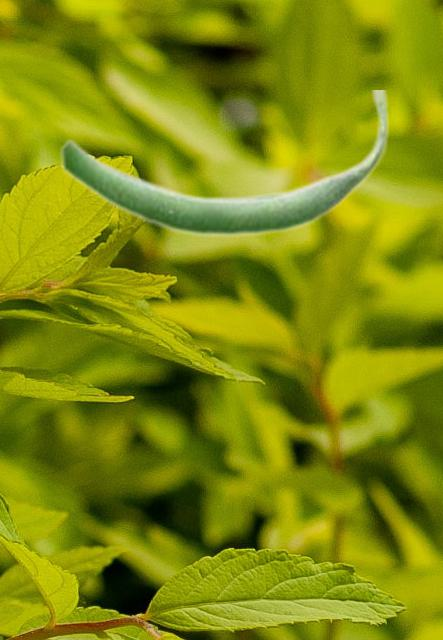french_bean: (59, 90, 389, 238)
